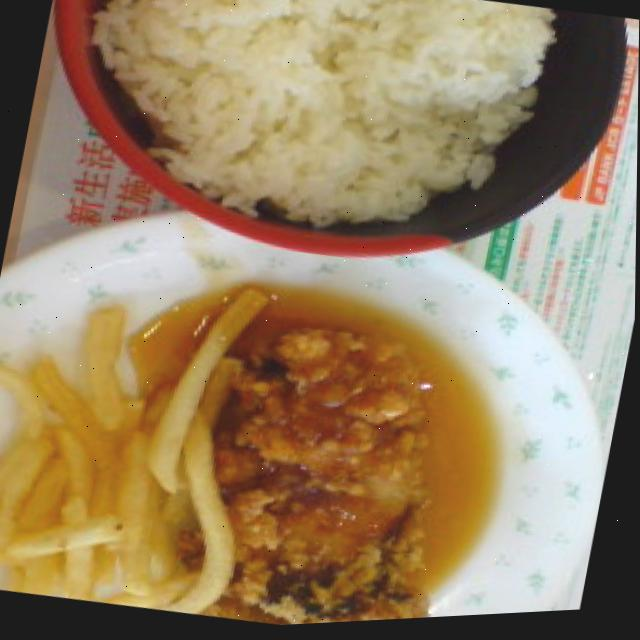炸货点心: (0, 273, 248, 623)
米饭主食: (67, 0, 536, 234)
鸡肉料理 含炸鸡: (200, 317, 437, 632)
